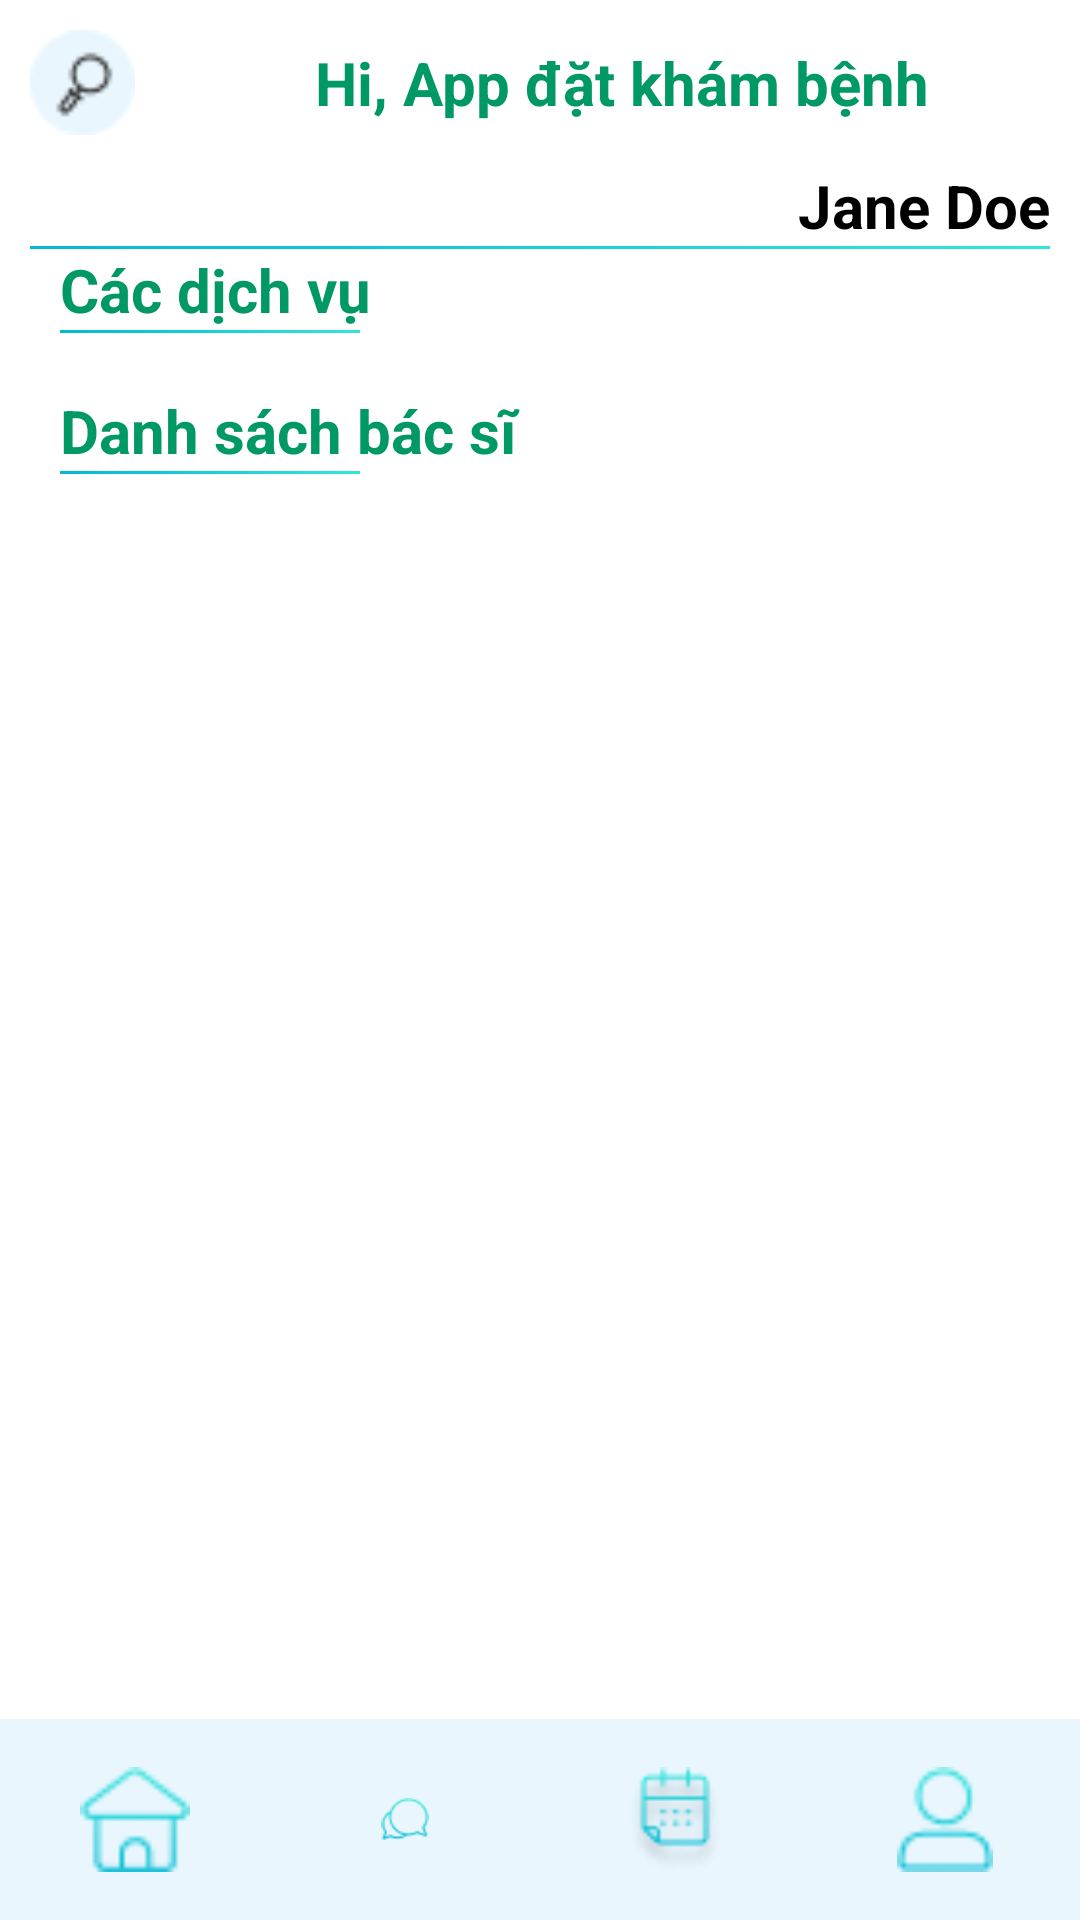

Named icons in this screenshot (1080x1920) and their centers, (x,y):
booking: (675,1807)
home: (135,1819)
mess: (405,1819)
profile: (945,1819)
search: (82,82)
